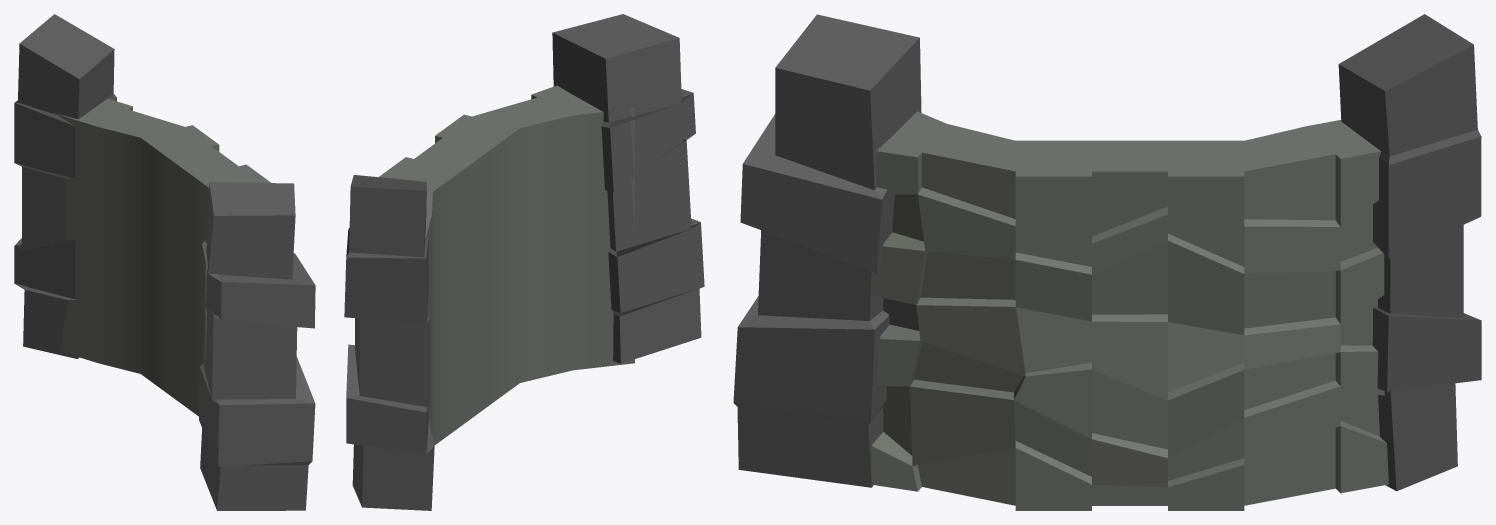
File: Wall.fbx
3 renders of one model, left to right at view 1: azimuth 30°, elevation 25°; view 2: azimuth 150°, elevation 25°; view 3: azimuth 270°, elevation 25°, orthographic. The views are drawn at different scales.
Visible parts, largest first — view 1: pCube7; view 2: pCube7; view 3: pCube7.
Part boxes in pixels (<box>): pCube7: <box>14,14,315,510</box>; pCube7: <box>344,14,704,510</box>; pCube7: <box>733,14,1481,510</box>.
Bounding box in the file's own units: 6.16 × 12.35 × 19.3.
